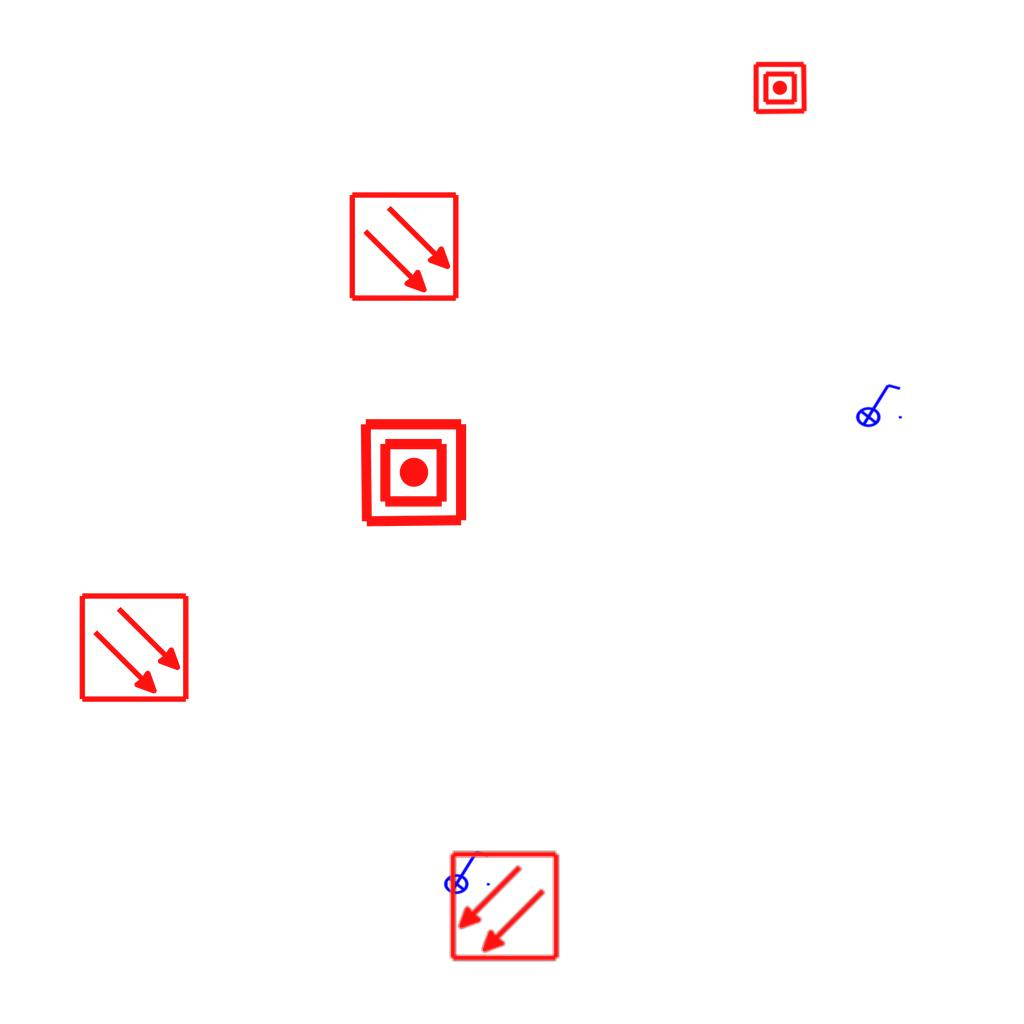Ausschalter_beleuchtet: (849, 380, 905, 428), (437, 847, 493, 895)
NAM-Nichtautomatischer_Melder: (357, 416, 470, 529), (752, 60, 808, 116)
RMO_Rauchmelder_optischer: (78, 591, 191, 704), (348, 190, 461, 303), (448, 850, 561, 963)
